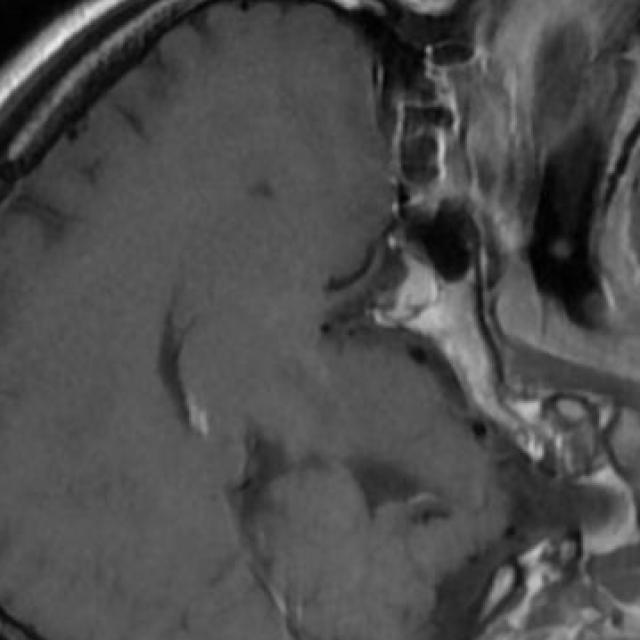pituitary: (382, 255, 439, 323)
